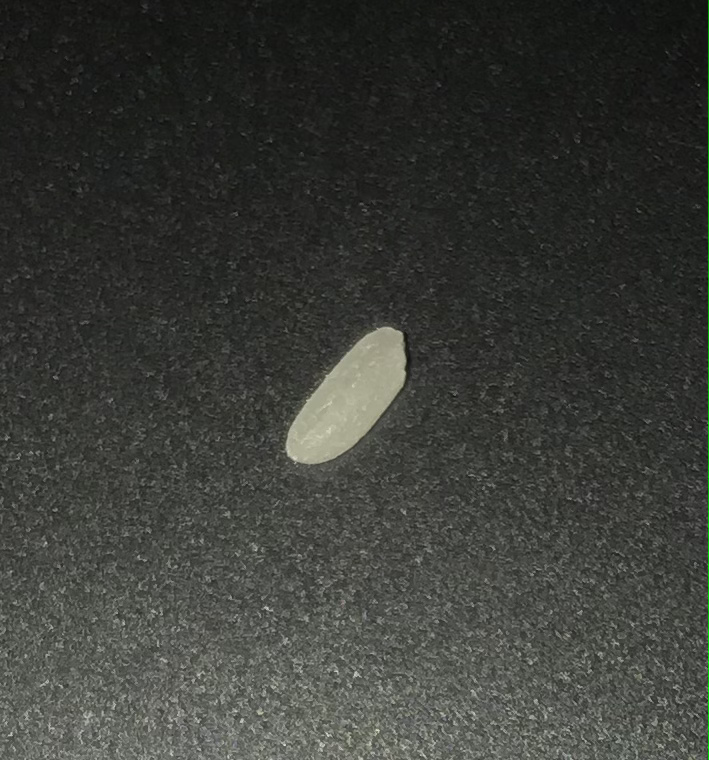Gao Tam Thom: (264, 319, 439, 483)
